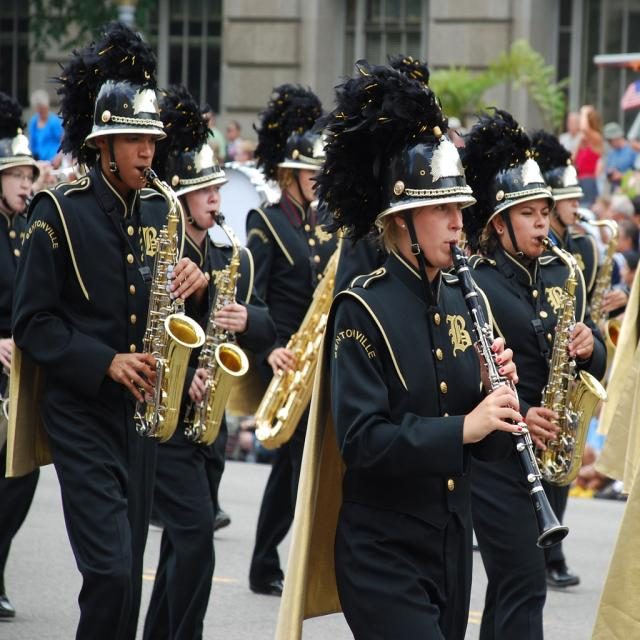clarinet: (445, 241, 571, 553)
saxophone: (130, 163, 208, 448), (530, 231, 603, 492), (182, 202, 252, 456), (575, 214, 625, 374)
